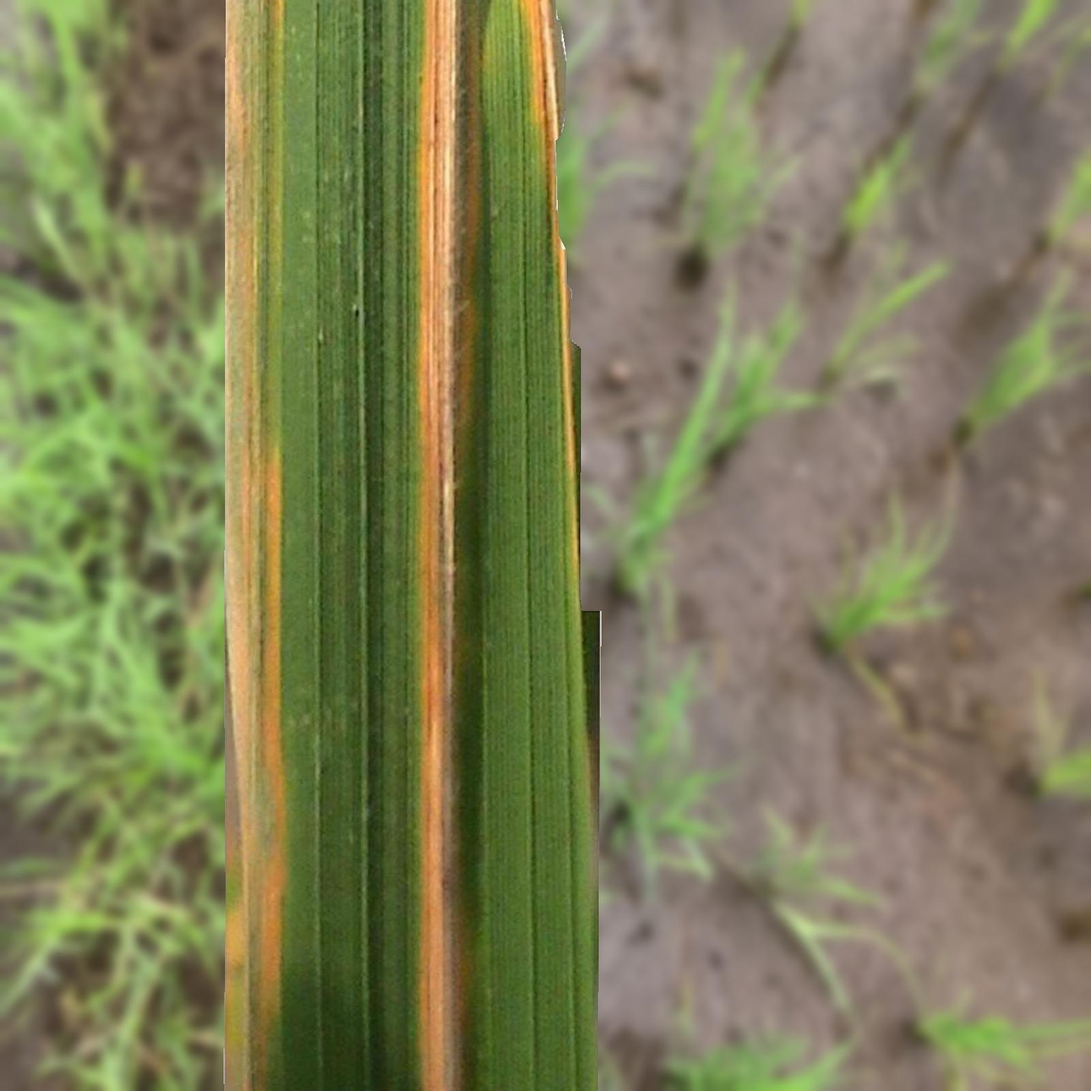BLS: (418, 0, 494, 1090), (225, 4, 292, 1090)
LEAF: (224, 0, 601, 1090)
